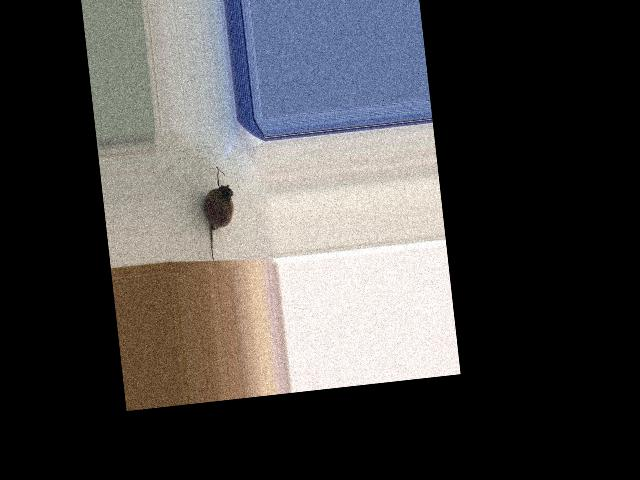beet: (199, 165, 239, 264)
